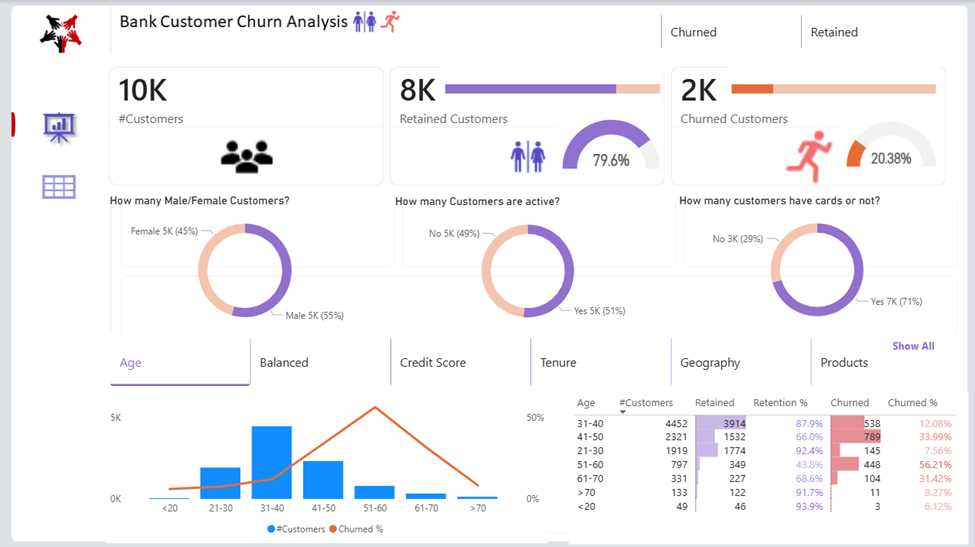

The dashboard page shown, as its layout file describes it:
{"tool":"powerbi","page":{"name":"Overview","canvas":[1280,720],"ordinal":0},"visuals":[{"type":"cardVisual","fields":{"Data":["_Metrics.#Customers","_Metrics.Retained Customers","_Metrics.Churned Customers"]},"box":[125.7,69.7,1128.1,189.3],"z":0},{"type":"barChart","fields":{"Y":["_Metrics.Retained Customers","_Metrics.Churned Customers"]},"box":[576.9,80.3,290.7,63.6],"z":1000},{"type":"gauge","fields":{"Y":["_Metrics.Retained %"]},"box":[729.8,143.8,137.8,87.8],"z":2000},{"type":"barChart","fields":{"Y":["_Metrics.Churned Customers","_Metrics.Retained Customers"]},"box":[950.9,80.3,277.1,63.6],"z":3000},{"type":"gauge","fields":{"Y":["_Metrics.Churned %"]},"box":[1100.8,143.8,127.2,87.8],"z":4000},{"type":"advancedSlicerVisual","fields":{"Values":["Churn_Modelling.Exited"]},"box":[867.6,12.1,369.5,57.5],"z":5000},{"type":"donutChart","title":"How many Male/Female Customers?","fields":{"Y":["_Metrics.#Customers"],"Category":["Churn_Modelling.Gender"]},"box":[139.3,252.9,361.9,183.2],"z":6000},{"type":"donutChart","title":"How many Customers are active?","fields":{"Y":["_Metrics.#Customers"],"Category":["Churn_Modelling.IsActiveMember"]},"box":[511.8,254.4,355.8,181.7],"z":7000},{"type":"donutChart","title":"How many customers have cards or not?","fields":{"Y":["_Metrics.#Customers"],"Category":["Churn_Modelling.HasCrCard"]},"box":[882.8,252.9,369.5,181.7],"z":8000},{"type":"lineStackedColumnComboChart","fields":{"Category":["Age Range.Age range"],"Y":["_Metrics.#Customers"],"Y2":["_Metrics.Churned %"]},"box":[139.3,508.8,576.9,199.9],"z":9000},{"type":"advancedSlicerVisual","fields":{"Values":["Filter_param.Filter_param"]},"box":[139.3,434.6,1112.9,74.2],"z":10000},{"type":"tableEx","fields":{"Values":["Age Range.Age range","_Metrics.#Customers","_Metrics.Retained Customers","_Metrics.Retained %","_Metrics.Churned Customers","_Metrics.Churned %"]},"box":[744,509.6,521.6,199.2],"z":11000},{"type":"textbox","box":[1161.4,436.1,75.7,43.9],"z":11001},{"type":"actionButton","box":[1137.2,433.1,99.9,39.4],"z":11002}]}

Visuals, with their boxes on the page's 1280x720 design canvas (x1, y1, x2, y2). These are canvas units, not pixel positions in the 975x547 screenshot, which may show the page scaled, cropped or inside an application window:
cardVisual - _Metrics.#Customers x _Metrics.Retained Customers: BBox(126, 70, 1254, 259)
barChart - _Metrics.Retained Customers x _Metrics.Churned Customers: BBox(577, 80, 868, 144)
gauge - _Metrics.Retained %: BBox(730, 144, 868, 232)
barChart - _Metrics.Churned Customers x _Metrics.Retained Customers: BBox(951, 80, 1228, 144)
gauge - _Metrics.Churned %: BBox(1101, 144, 1228, 232)
advancedSlicerVisual - Churn_Modelling.Exited: BBox(868, 12, 1237, 70)
"How many Male/Female Customers?" donutChart: BBox(139, 253, 501, 436)
"How many Customers are active?" donutChart: BBox(512, 254, 868, 436)
"How many customers have cards or not?" donutChart: BBox(883, 253, 1252, 435)
lineStackedColumnComboChart - Age Range.Age range x _Metrics.#Customers: BBox(139, 509, 716, 709)
advancedSlicerVisual - Filter_param.Filter_param: BBox(139, 435, 1252, 509)
tableEx - Age Range.Age range x _Metrics.#Customers: BBox(744, 510, 1266, 709)
textbox: BBox(1161, 436, 1237, 480)
actionButton: BBox(1137, 433, 1237, 472)
